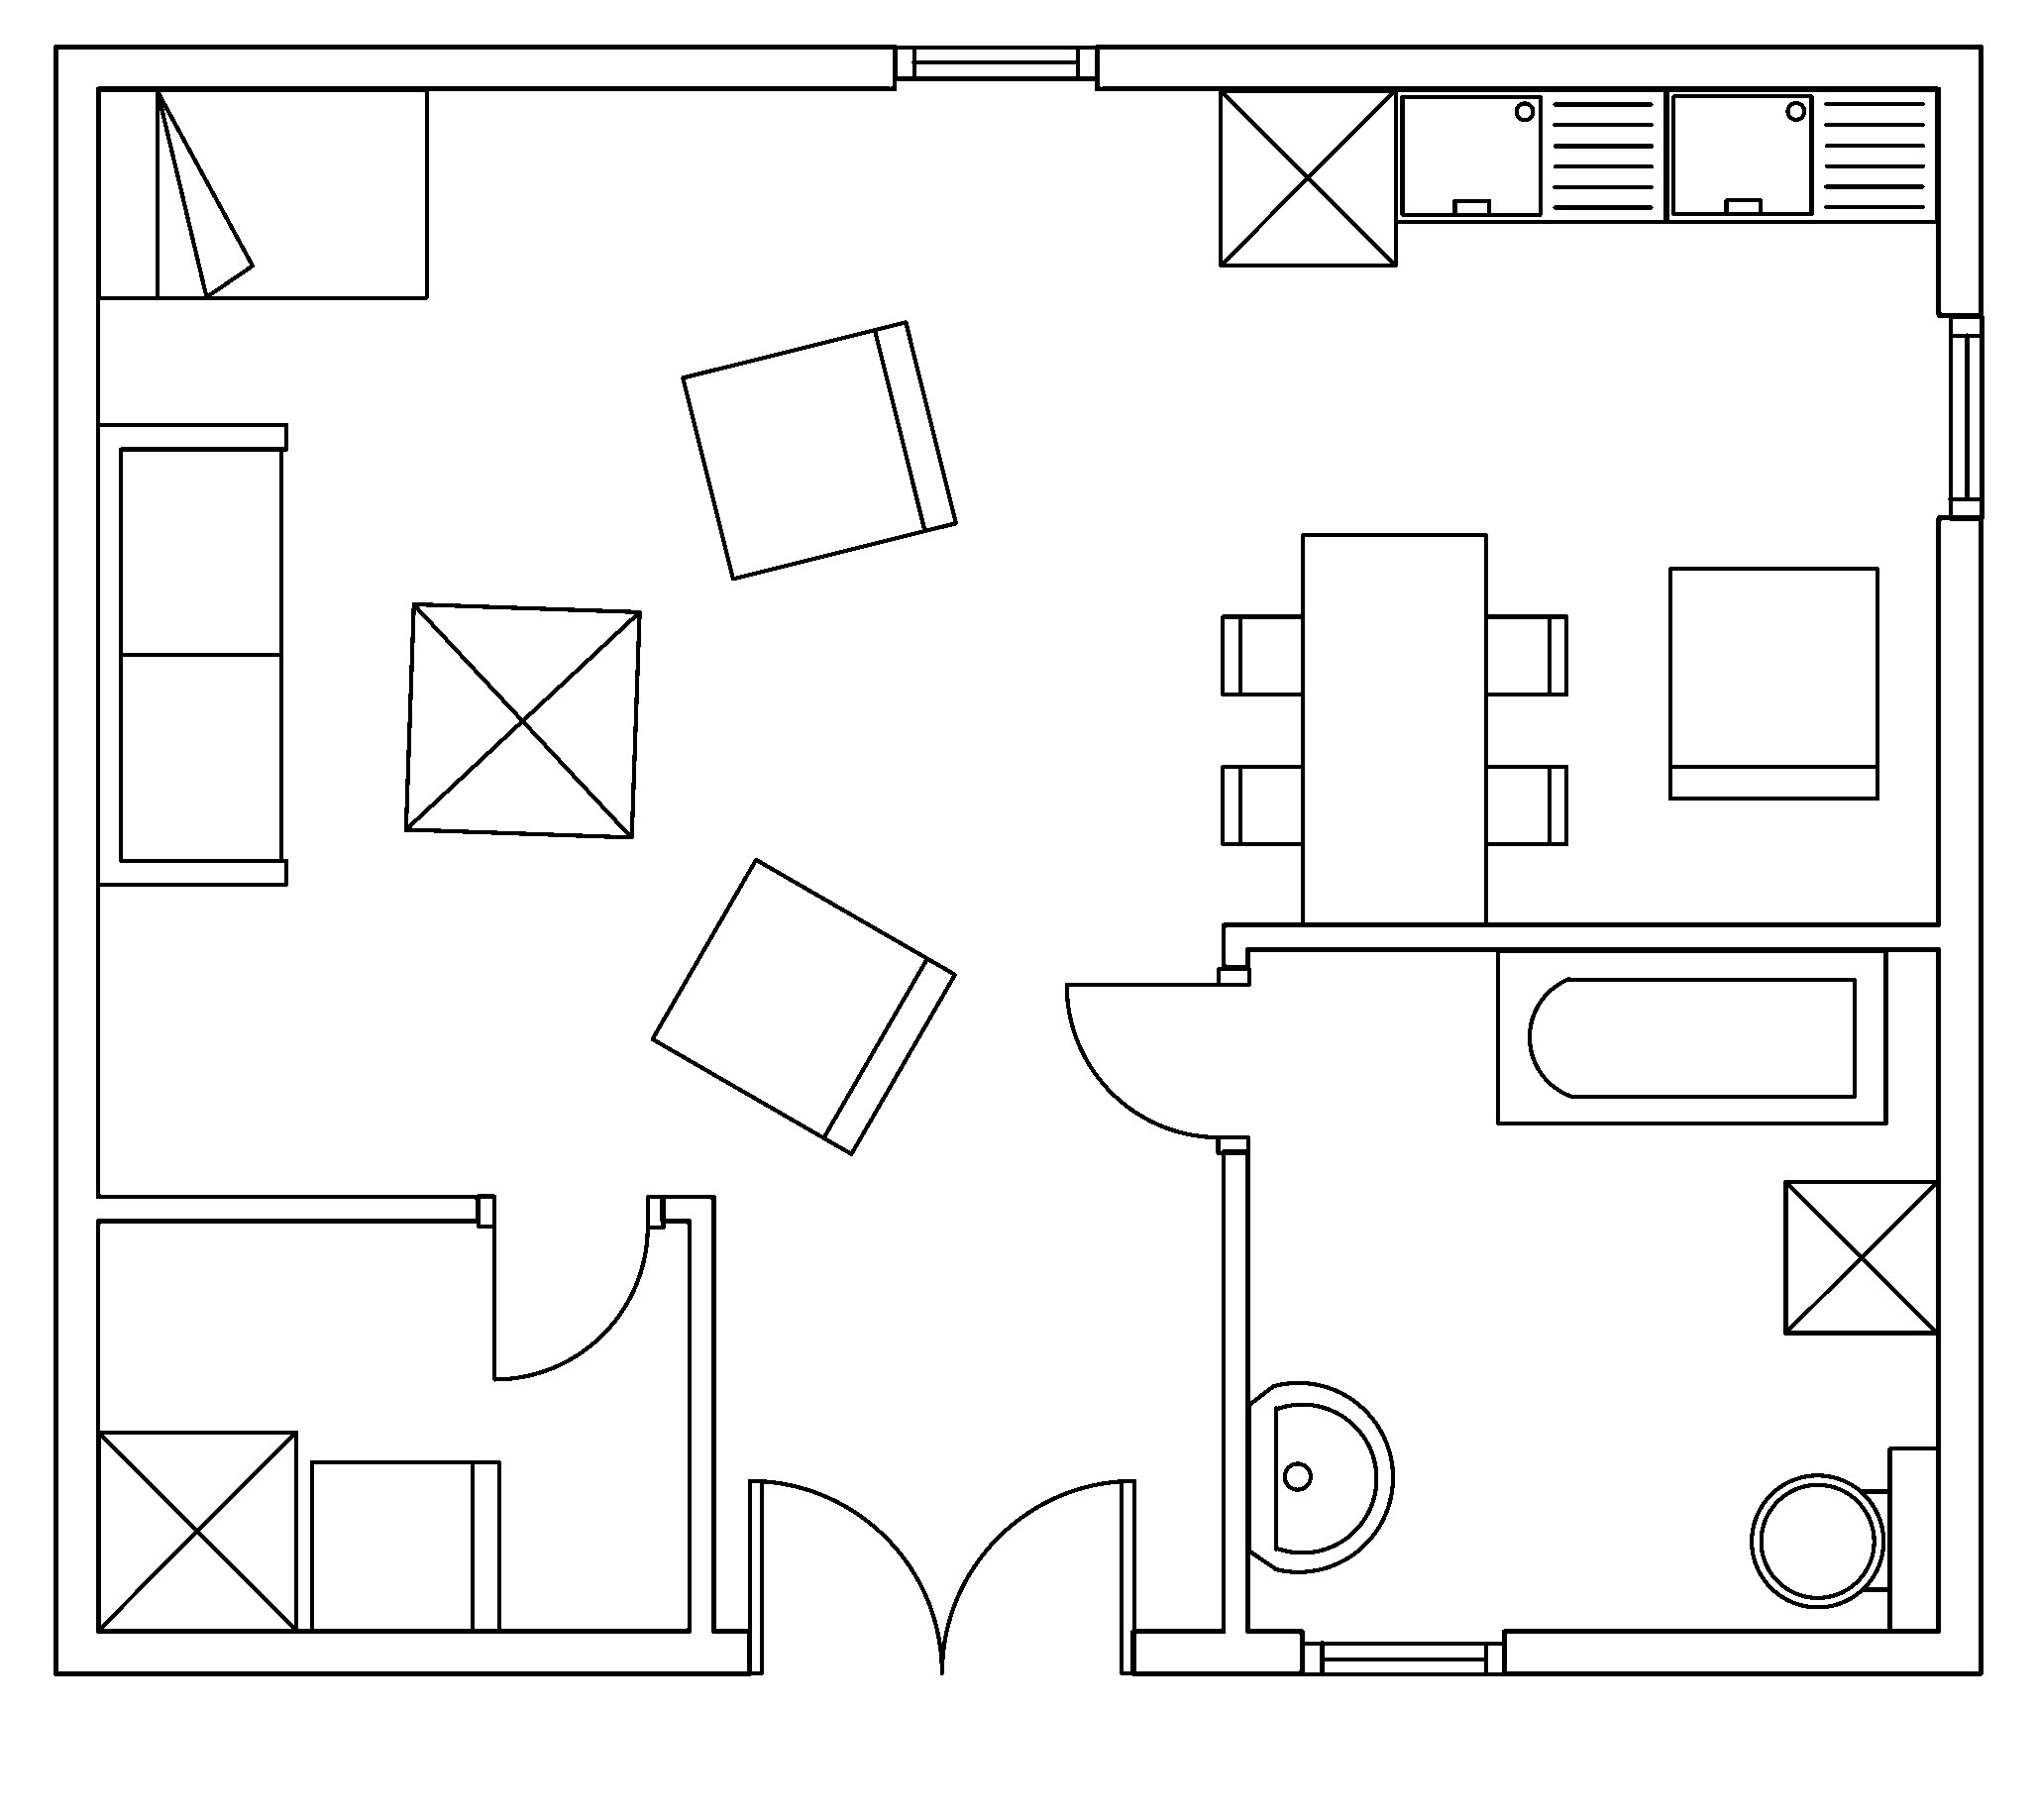bed: (95, 86, 428, 300)
coffee_table: (402, 601, 643, 840), (95, 1428, 299, 1632), (1217, 86, 1398, 267), (1781, 1177, 1940, 1335)
dining_table: (1219, 531, 1568, 926)
large_sink: (1749, 1444, 1940, 1632)
large_sofa: (95, 422, 288, 887)
sink: (1663, 86, 1940, 223), (1393, 86, 1668, 223)
small_sink: (1245, 1381, 1394, 1572)
small_sofa: (650, 856, 957, 1156), (678, 318, 959, 580), (1666, 564, 1879, 801), (307, 1458, 500, 1632)
tub: (1494, 947, 1888, 1126)
